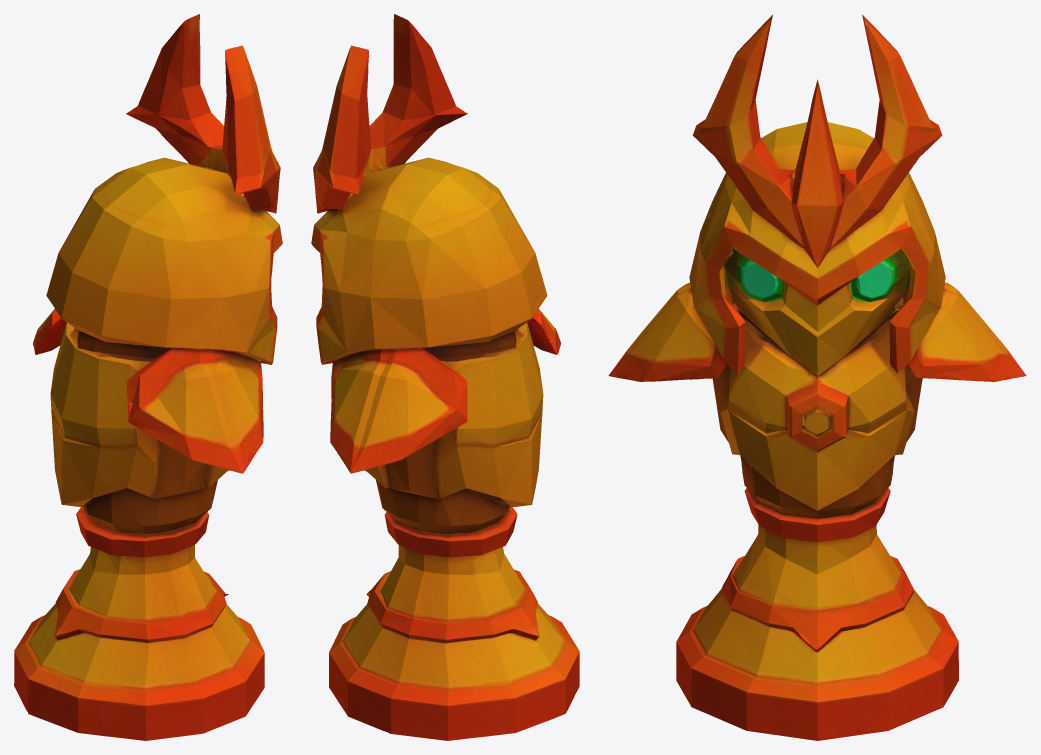
3 renders of one model, left to right at view 1: azimuth 30°, elevation 25°; view 2: azimuth 150°, elevation 25°; view 3: azimuth 270°, elevation 25°, orthographic. The views are drawn at different scales.
Visible parts, largest first — view 1: tripo_node_a27464aa-5988-4557-ad97-5eac5ed4a652; view 2: tripo_node_a27464aa-5988-4557-ad97-5eac5ed4a652; view 3: tripo_node_a27464aa-5988-4557-ad97-5eac5ed4a652.
Part boxes in pixels (box(x1,y1,x2,y2)): tripo_node_a27464aa-5988-4557-ad97-5eac5ed4a652: box(14, 14, 282, 740); tripo_node_a27464aa-5988-4557-ad97-5eac5ed4a652: box(311, 14, 579, 740); tripo_node_a27464aa-5988-4557-ad97-5eac5ed4a652: box(608, 14, 1026, 740).
Size of the model in its own units: 0.4077 by 1 by 0.5384.
Materials: 1 (1 with a texture image).
